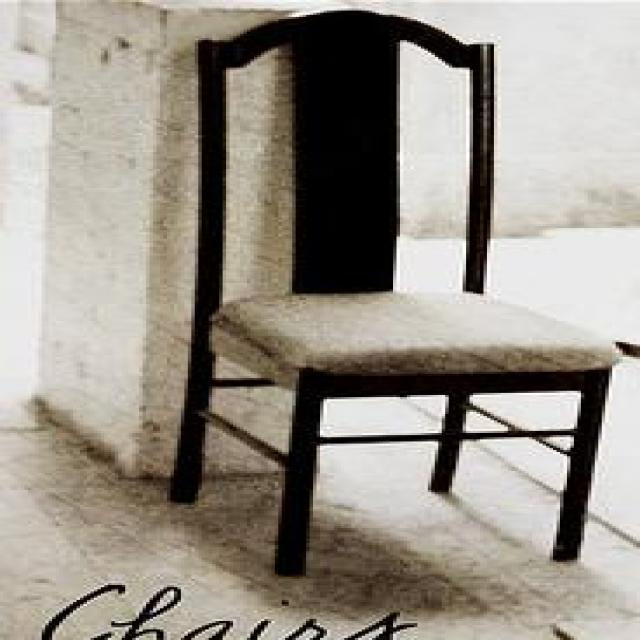chair: (167, 7, 626, 574)
